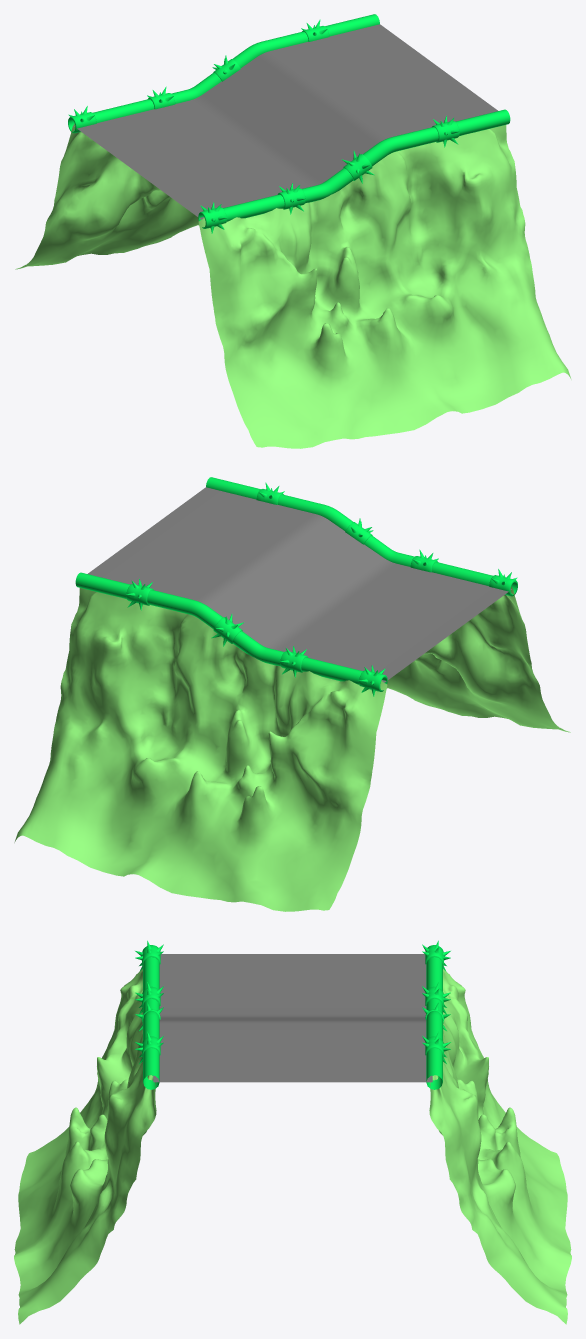
Rendered from Track_Ice_04.fbx.
3 renders of one model, top to bottom at view 1: azimuth 30°, elevation 25°; view 2: azimuth 150°, elevation 25°; view 3: azimuth 270°, elevation 25°, orthographic. The views are drawn at different scales.
Visible parts, largest first — view 1: Track_Ice_04_walls, Track_Ice_04; view 2: Track_Ice_04_walls, Track_Ice_04; view 3: Track_Ice_04_walls, Track_Ice_04.
Boxes of the visible parts, x1,y1,x2,y2 form: Track_Ice_04_walls: (15, 14, 571, 448); Track_Ice_04: (74, 24, 497, 219); Track_Ice_04_walls: (14, 477, 570, 911); Track_Ice_04: (88, 487, 511, 682); Track_Ice_04_walls: (14, 940, 571, 1324); Track_Ice_04: (153, 954, 432, 1082).
Size of what is drawn, in the model's own units: 3109 by 4392 by 2297.
